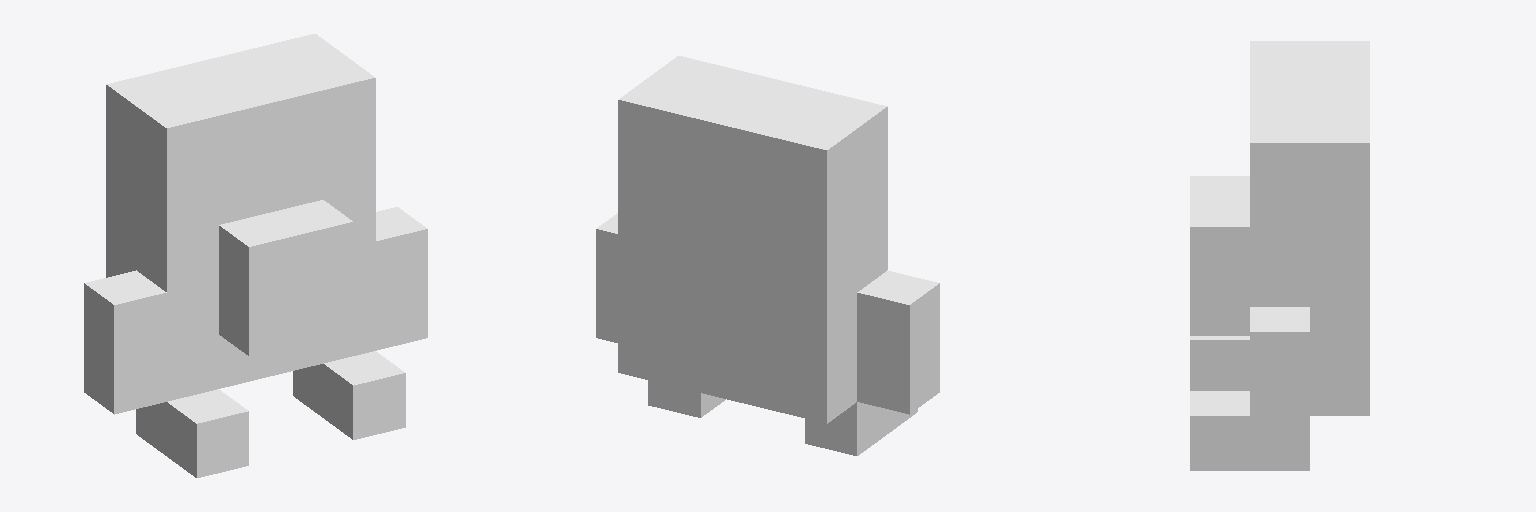
The model's file is dwarf-3.obj.
3 renders of one model, left to right at view 1: azimuth 30°, elevation 25°; view 2: azimuth 150°, elevation 25°; view 3: azimuth 270°, elevation 25°, orthographic.
Parts seen in each view (by area): view 1: object 1; view 2: object 1; view 3: object 1.
Part boxes in pixels (x1,y1,x2,y2): object 1: (84, 34, 427, 477); object 1: (596, 56, 939, 455); object 1: (1190, 41, 1369, 470).
Size of the model in its own units: 0.6 by 0.6 by 0.3.